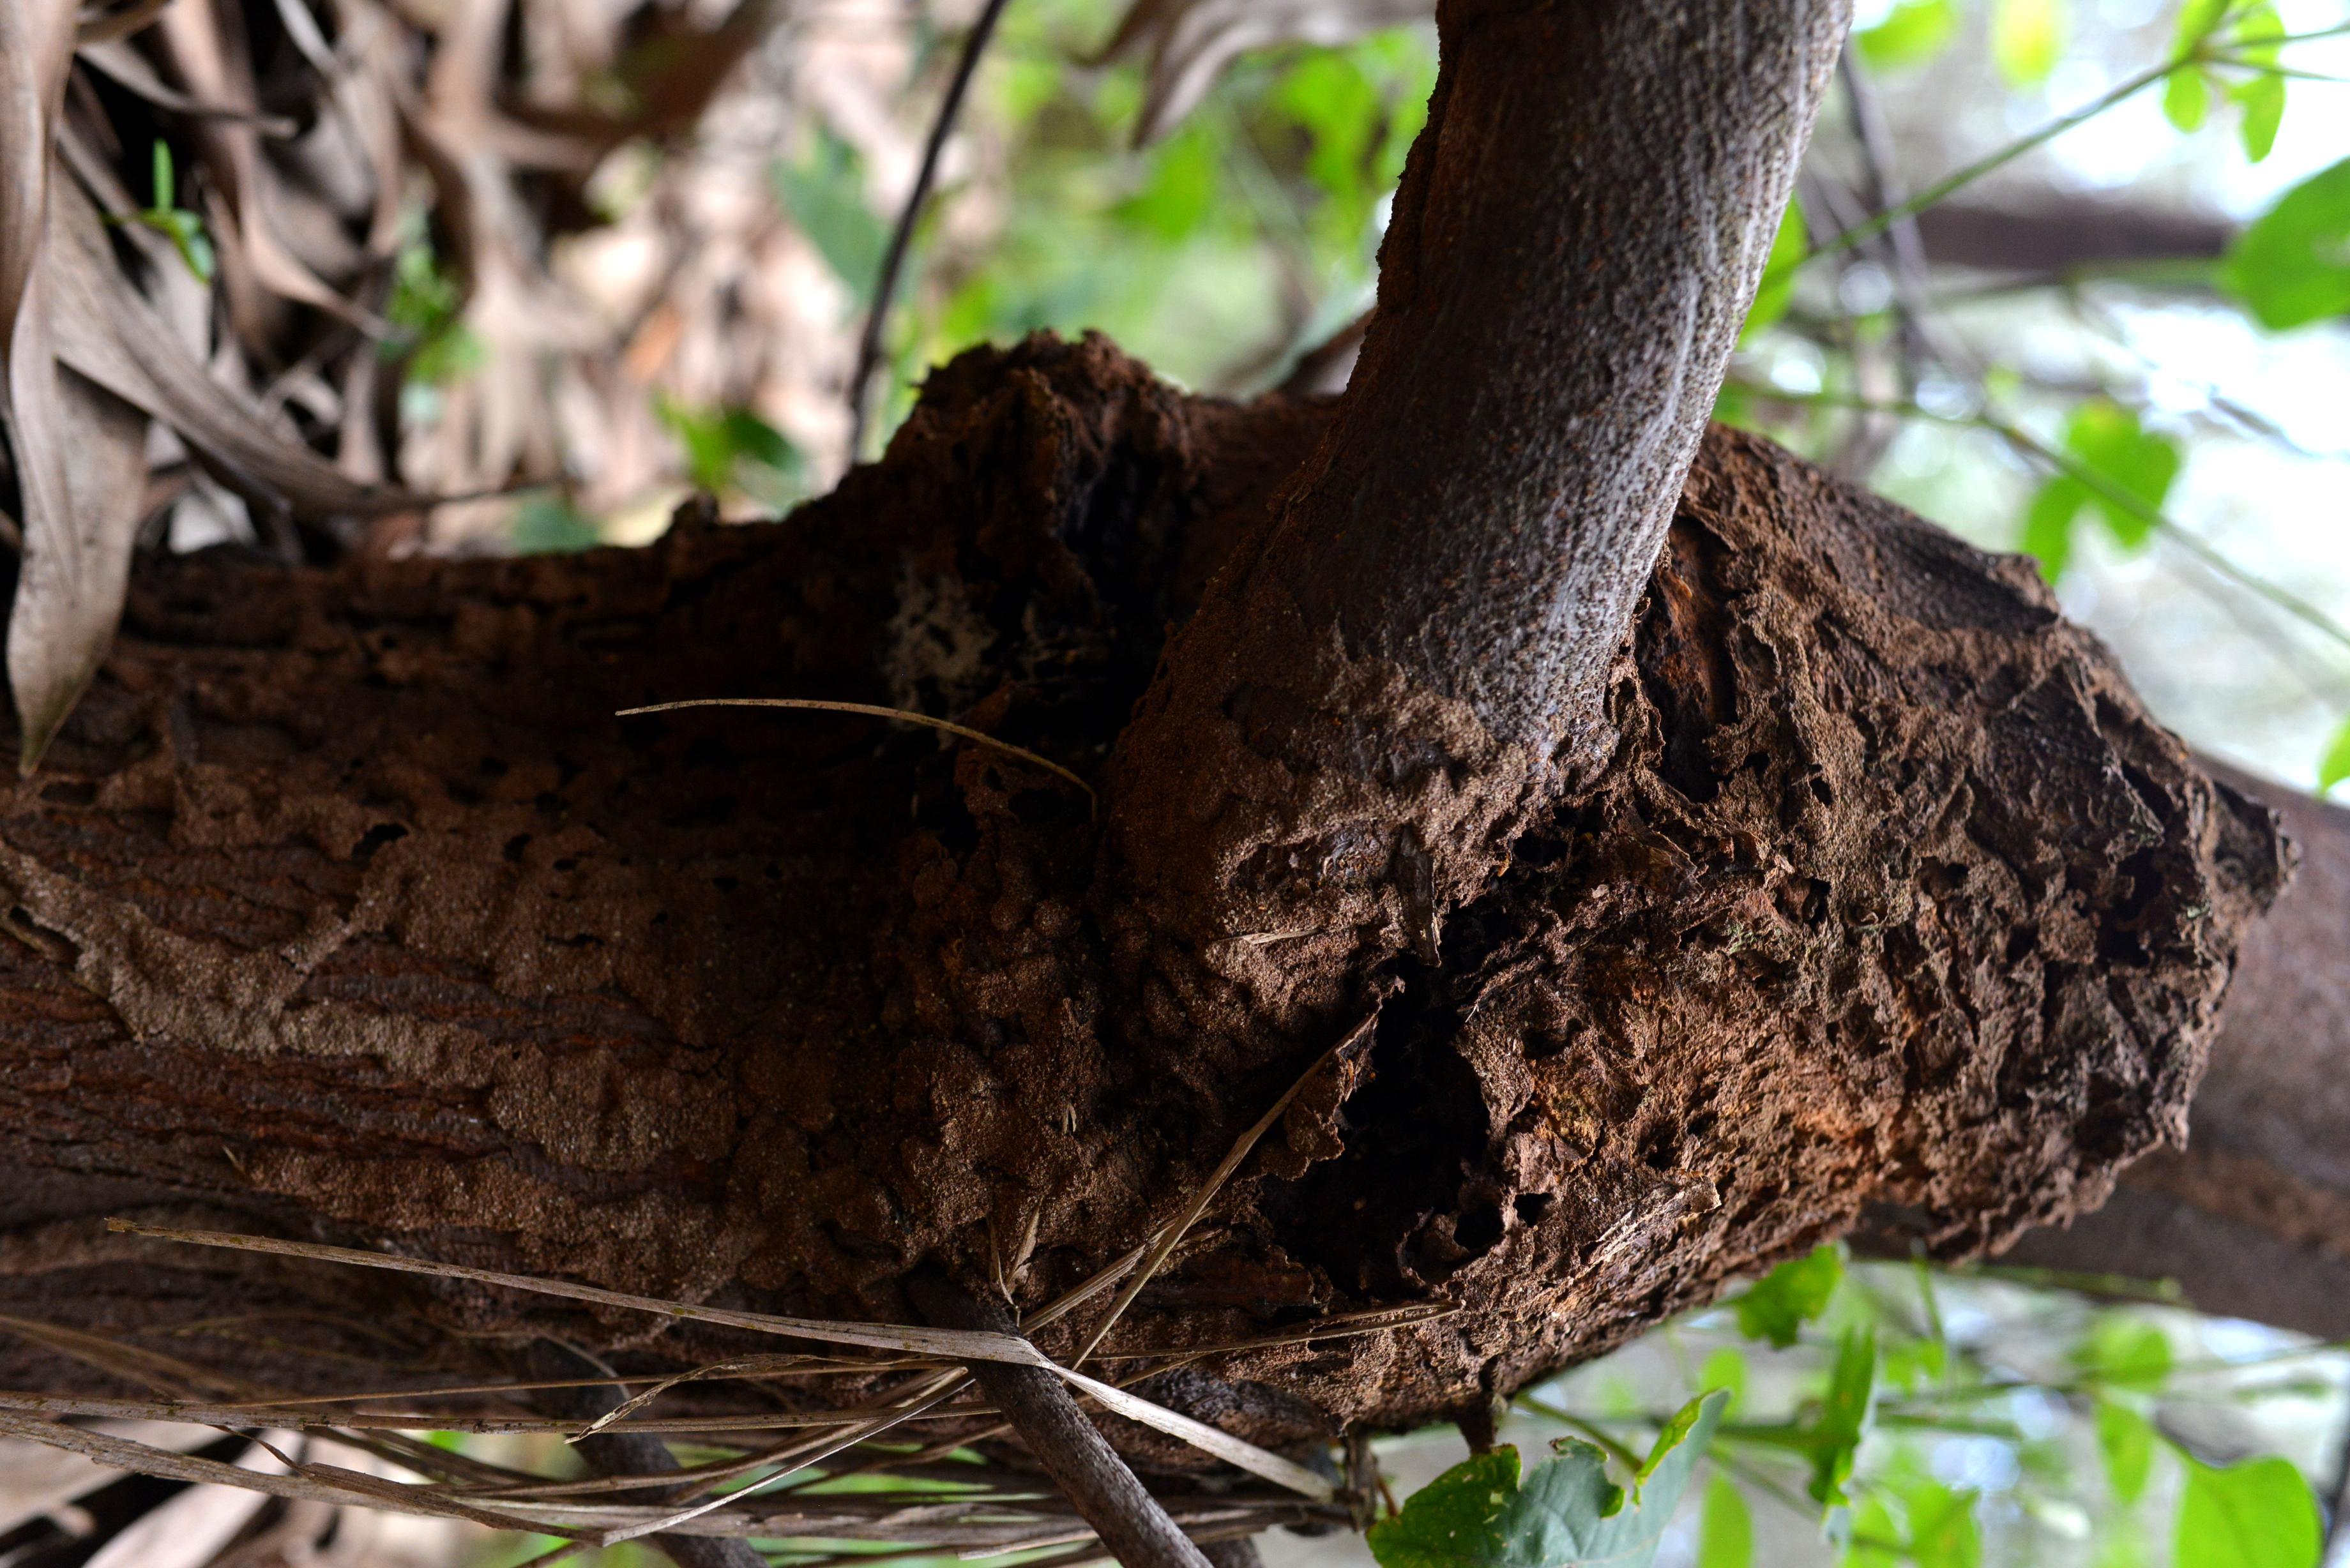Termite - Nest: (3, 541, 880, 1309), (1095, 542, 1507, 1010), (2144, 1130, 2350, 1255)
